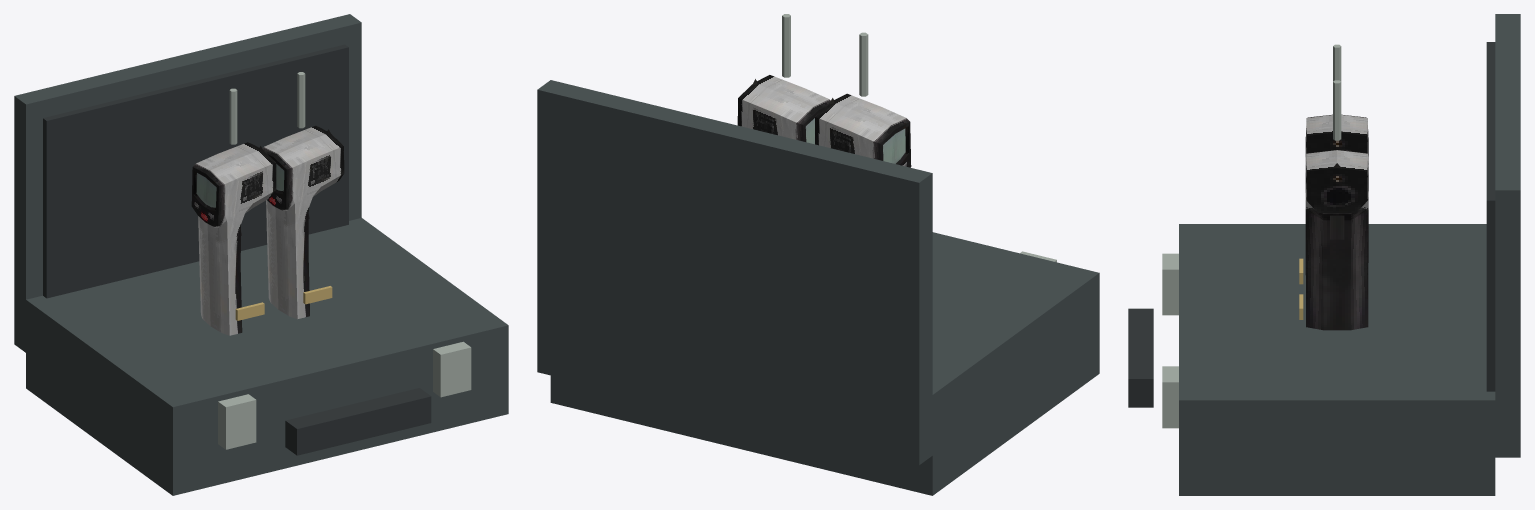
The model's file is blender_thermal_beacon_1.glb.
3 views of the same model, side by side, from view 1: azimuth 30°, elevation 25°; view 2: azimuth 150°, elevation 25°; view 3: azimuth 270°, elevation 25° (orthographic). The views are drawn at different scales.
Visible parts, largest first — view 1: blender_thermal_beacon_1; view 2: blender_thermal_beacon_1; view 3: blender_thermal_beacon_1.
Boxes of the visible parts, x1,y1,x2,y2 form: blender_thermal_beacon_1: [14, 14, 508, 495]; blender_thermal_beacon_1: [537, 14, 1099, 495]; blender_thermal_beacon_1: [1128, 14, 1520, 495].
Size of the model in its own units: 0.198 by 0.18 by 0.186.
Materials: 1 (1 with a texture image).
